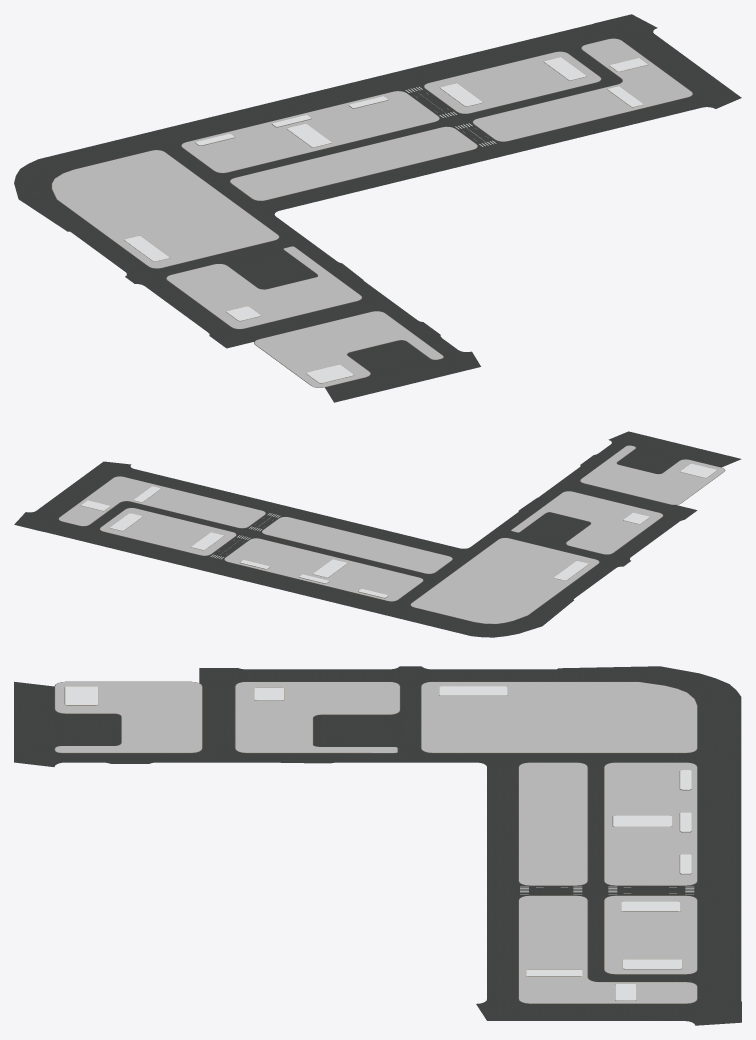
The model's file is Area_01.fbx.
3 renders of one model, top to bottom at view 1: azimuth 30°, elevation 25°; view 2: azimuth 150°, elevation 25°; view 3: azimuth 270°, elevation 25°, orthographic. The views are drawn at different scales.
Visible parts, largest first — view 1: Area_01; view 2: Area_01; view 3: Area_01.
Boxes of the visible parts, <box> form: Area_01: <box>14,14,741,402</box>; Area_01: <box>14,431,741,637</box>; Area_01: <box>14,666,741,1025</box>.
Size of the model in its own units: 38383 by 31.39 by 32851.
